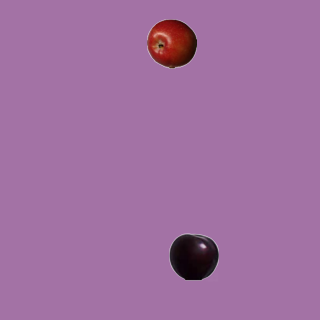Apple Braeburn: (146, 18, 196, 68)
Cherry Wax Black: (168, 231, 218, 281)
